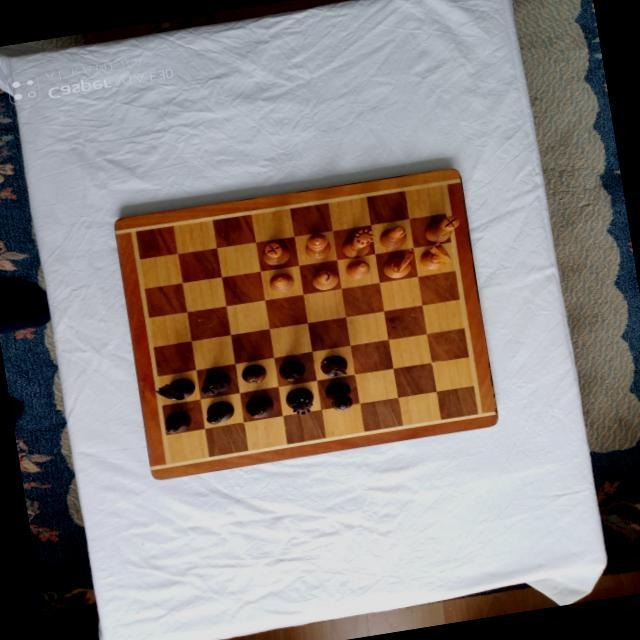black-bishop: (203, 399, 235, 425), (243, 394, 275, 420)
black-king: (323, 380, 355, 414)
black-knight: (152, 376, 196, 404), (318, 353, 349, 379)
black-pawn: (162, 410, 193, 435), (239, 363, 267, 385)
black-queen: (283, 386, 315, 417)
black-rook: (197, 371, 232, 397), (277, 358, 307, 384)
white-bishop: (377, 225, 409, 251), (309, 268, 339, 292)
white-king: (303, 231, 333, 261)
white-knight: (381, 248, 419, 280), (417, 240, 452, 272)
white-pawn: (267, 270, 295, 293), (344, 259, 371, 281)
white-queen: (339, 227, 377, 260)
white-rook: (422, 214, 461, 242), (260, 240, 291, 267)
